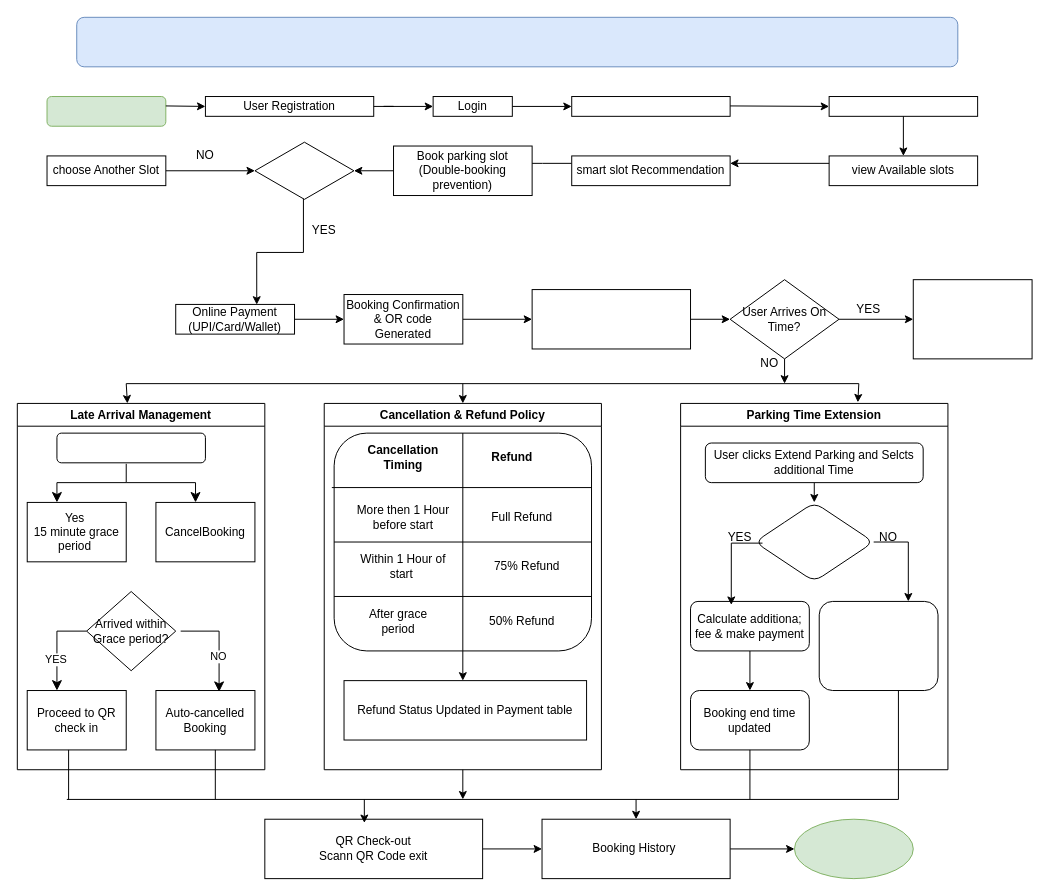
Image size: 1049x896. Some labels were removed from this diagram. Each missing label, with the centre of its shape:
"Add Vechicle" belongs at point 650,106.
"Are you on the way?" belongs at point 130,447.
"Arrival Reminder (15 mins before start)" belongs at point 611,319.
"END" belongs at point 853,848.
"Extension request Declined" belongs at point 878,645.
"PARKSMART - Smart Parking & slot Booking Paltform" belongs at point 517,41.
"QR Code Check-in Status :Reserved (Occupied)" belongs at point 972,319.
"Search parking" belongs at point 903,106.
"Slot Available?" belongs at point 304,170.
"Slots Available for Extension" belongs at point 814,541.
"Start" belongs at point 106,111.
